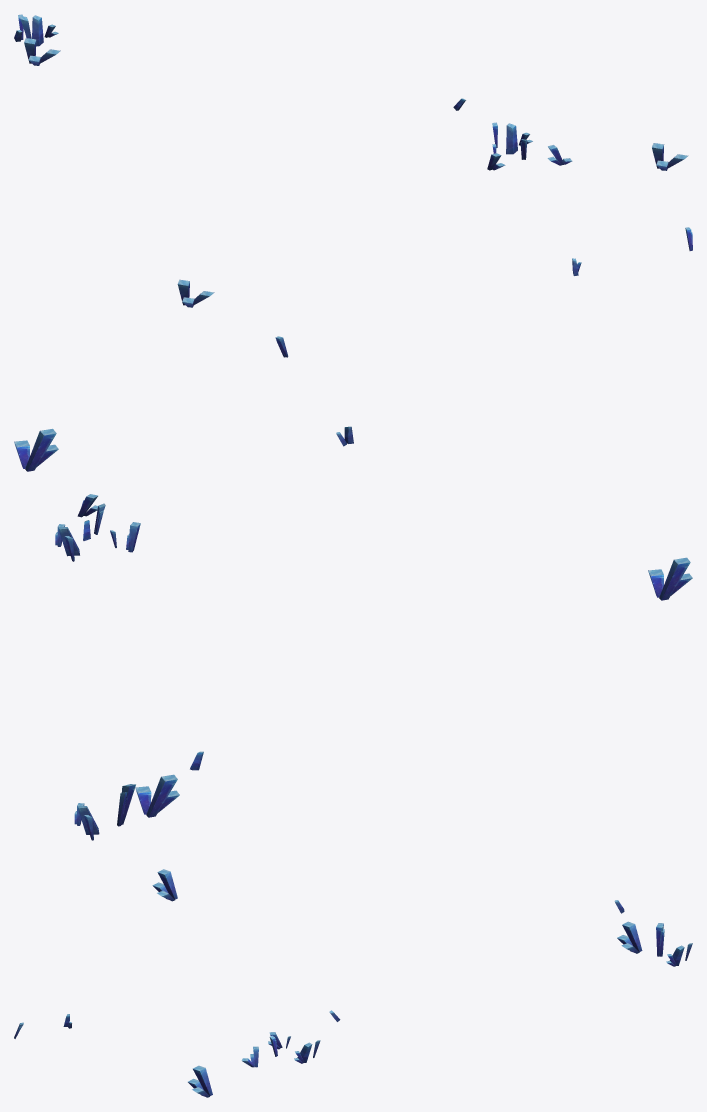
The model's file is Area12_11_y.FBX.
3 renders of one model, top to bottom at view 1: azimuth 30°, elevation 25°; view 2: azimuth 150°, elevation 25°; view 3: azimuth 270°, elevation 25°, orthographic. The views are drawn at different scales.
Parts seen in each view (by area): view 1: Area12_11_y; view 2: Area12_11_y; view 3: Area12_11_y.
Boxes of the visible parts, box(x1,y1,x2,y2) form: Area12_11_y: box(14, 14, 692, 307); Area12_11_y: box(14, 336, 692, 840); Area12_11_y: box(14, 869, 692, 1097).
Size of the model in its own units: 2021 by 194 by 2753.
